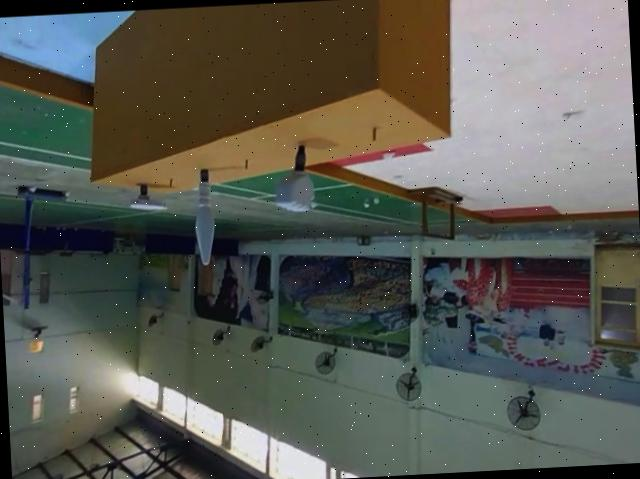Fist: (269, 141, 322, 215)
Hand: (127, 185, 165, 216)
Sph: (190, 169, 220, 269)
